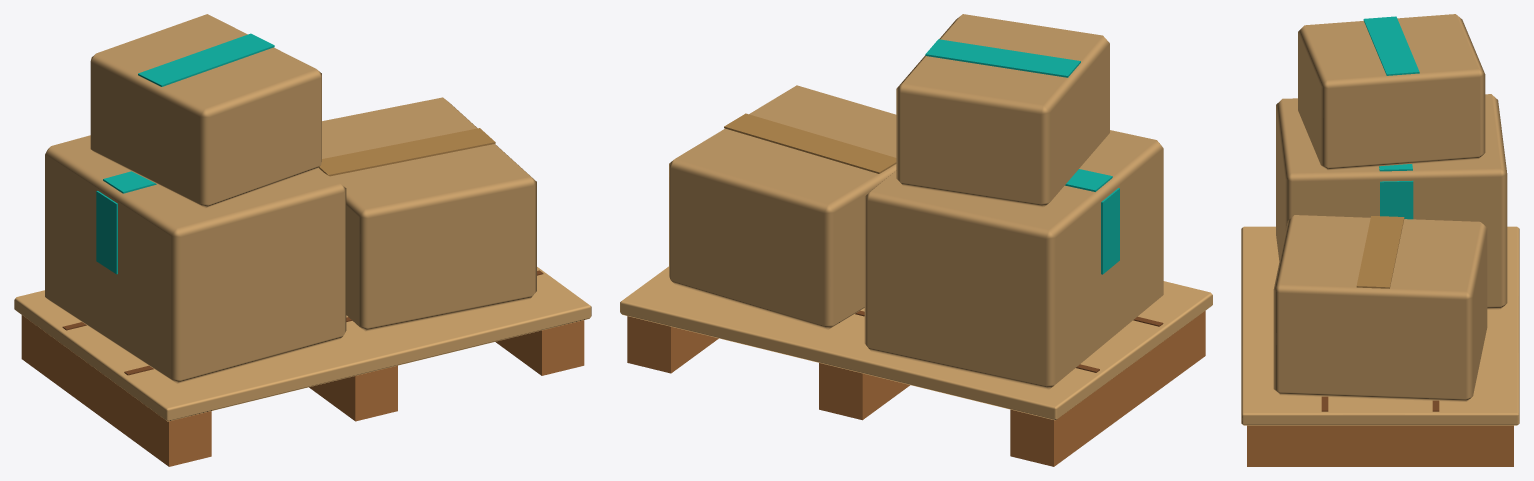
Rendered from station_special_ausstattung_2_1.glb.
3 renders of one model, left to right at view 1: azimuth 30°, elevation 25°; view 2: azimuth 150°, elevation 25°; view 3: azimuth 270°, elevation 25°, orthographic. The views are drawn at different scales.
Visible parts, largest first — view 1: station_special_ausstattung_2_1; view 2: station_special_ausstattung_2_1; view 3: station_special_ausstattung_2_1.
Boxes of the visible parts, <box> form: station_special_ausstattung_2_1: <box>14,14,591,466</box>; station_special_ausstattung_2_1: <box>620,14,1212,466</box>; station_special_ausstattung_2_1: <box>1241,14,1519,466</box>.
Size of the model in its own units: 0.8 by 0.575 by 0.5.
